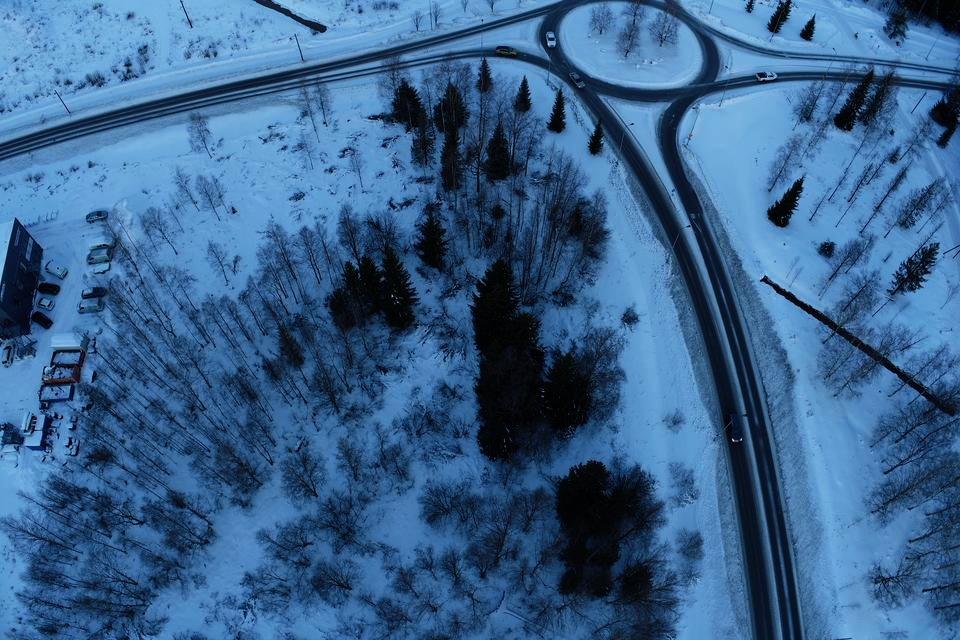roundabout: (499, 0, 761, 115)
